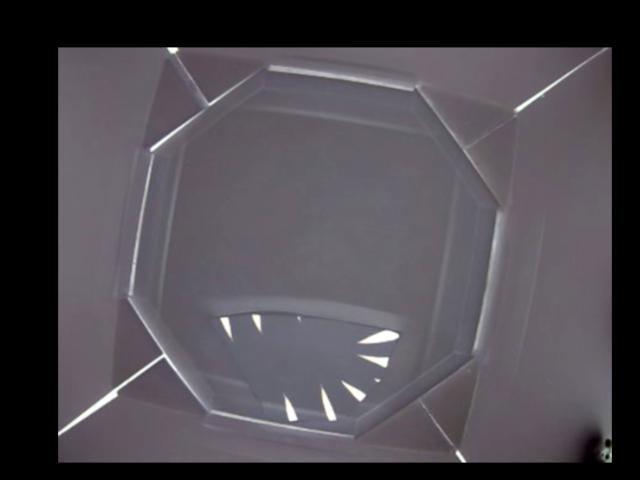China: (208, 310, 398, 423)
